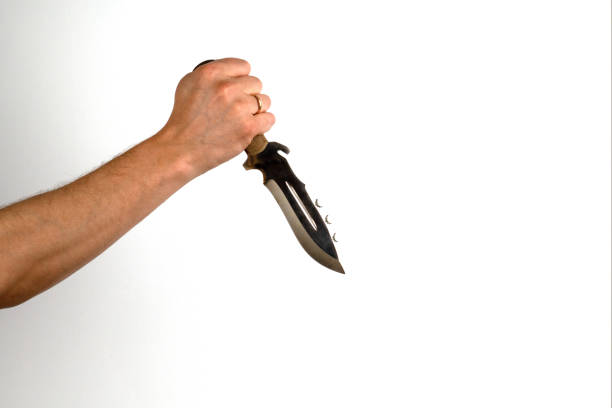knife: (190, 58, 350, 275)
